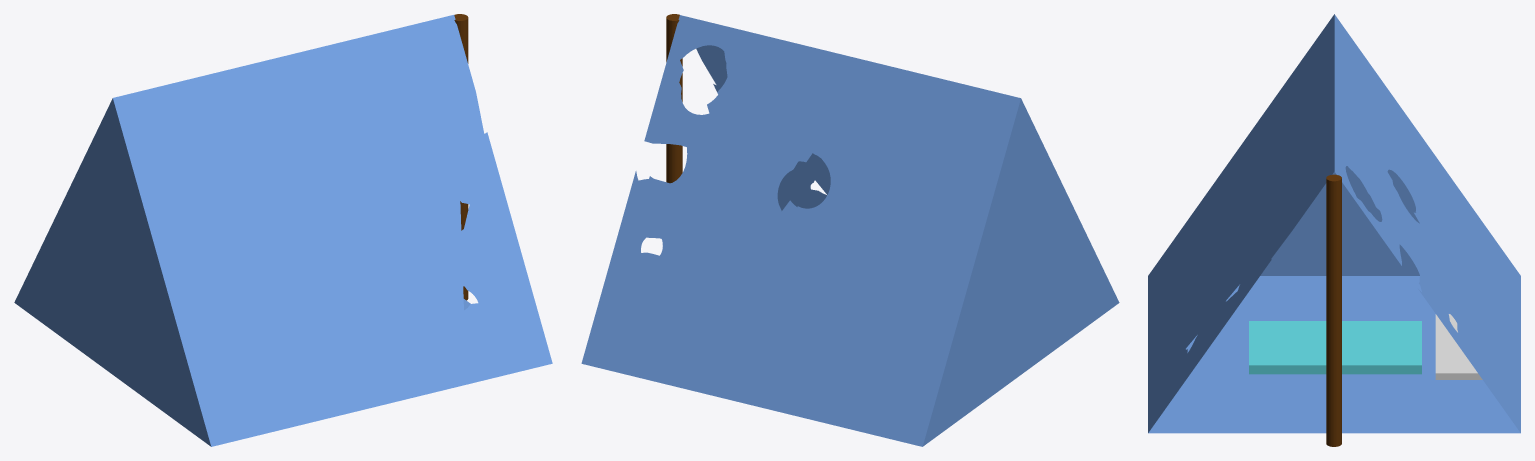
Rendered from tendarota.fbx.
3 views of the same model, side by side, from view 1: azimuth 30°, elevation 25°; view 2: azimuth 150°, elevation 25°; view 3: azimuth 270°, elevation 25° (orthographic). The views are drawn at different scales.
Visible parts, largest first — view 1: Plane, Cylinder; view 2: Plane, Cylinder; view 3: Plane, Cube, Cylinder, Cube.001.
Part boxes in pixels (x1=…): Plane: x1=14, y1=15, x2=552, y2=446; Cylinder: x1=454, y1=14, x2=468, y2=300; Plane: x1=581, y1=15, x2=1119, y2=446; Cylinder: x1=666, y1=14, x2=682, y2=183; Plane: x1=1148, y1=14, x2=1520, y2=433; Cube: x1=1249, y1=321, x2=1421, y2=374; Cylinder: x1=1326, y1=174, x2=1341, y2=446; Cube.001: x1=1435, y1=314, x2=1482, y2=379.
Size of the model in its own units: 207 by 160 by 200.
